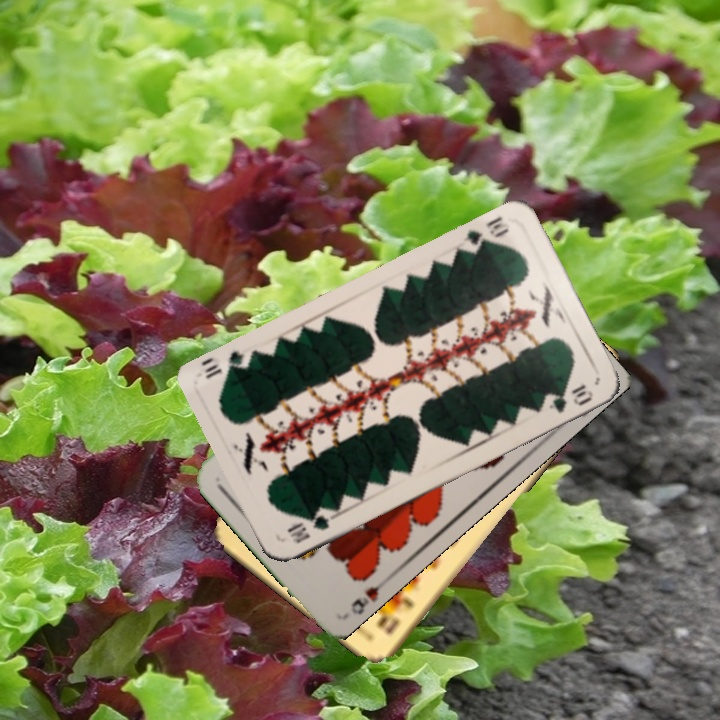E10: (377, 593, 416, 637)
G10: (459, 212, 513, 256), (283, 511, 332, 546)
H9: (346, 575, 388, 617)
